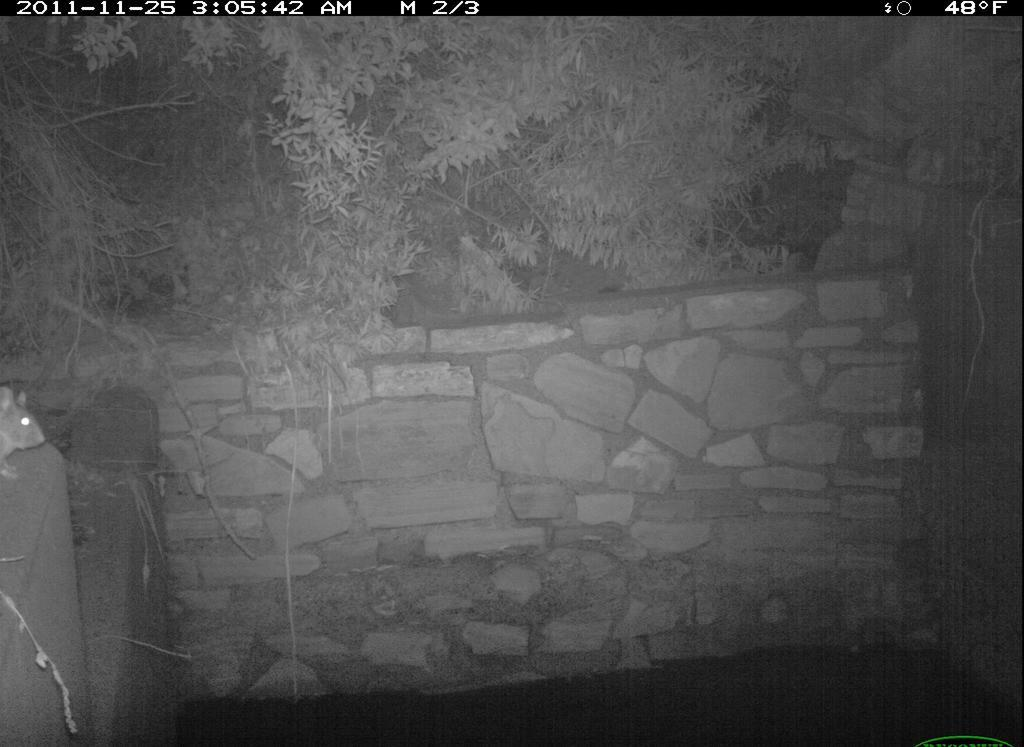rodent: (2, 380, 56, 484)
